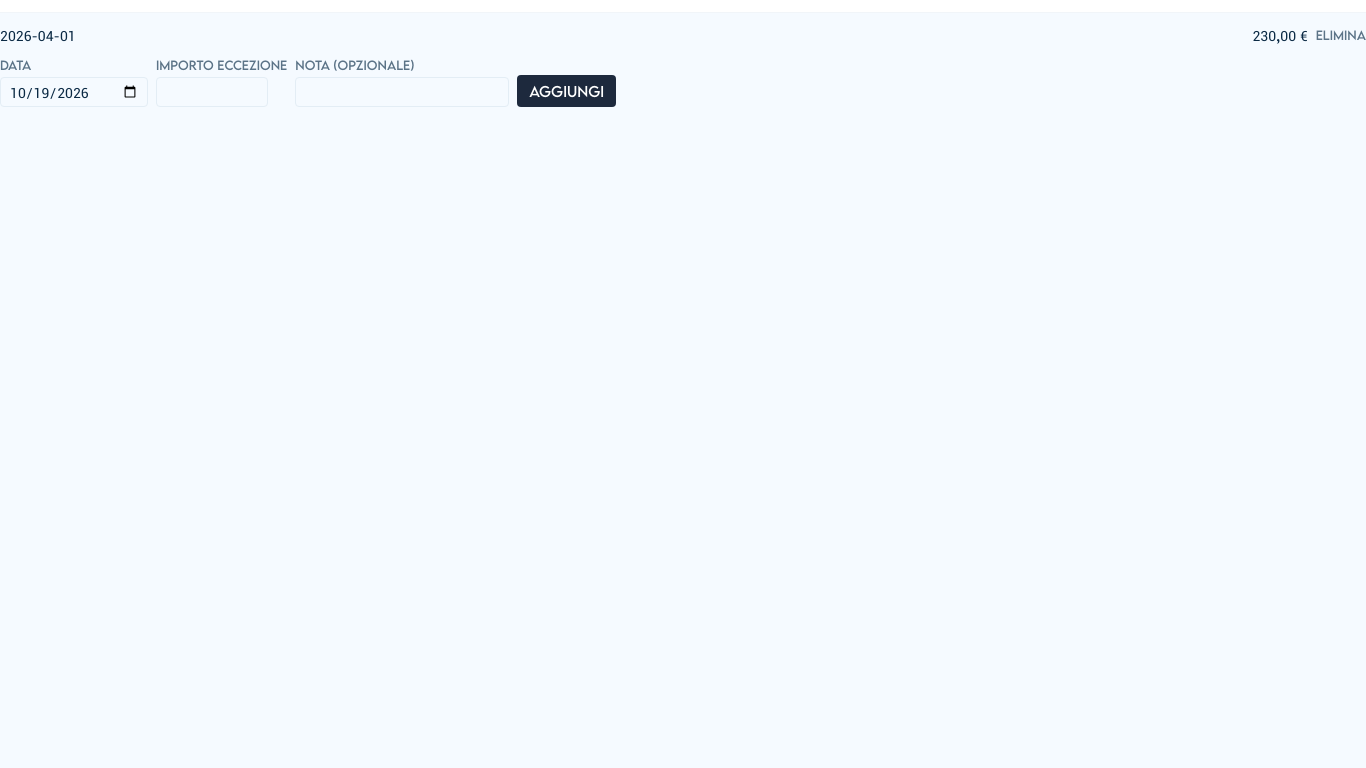
it: cancellazione › chiede conferma prima di eliminare
Click the button "Elimina": (1341, 35) [1316, 27, 1365, 43]
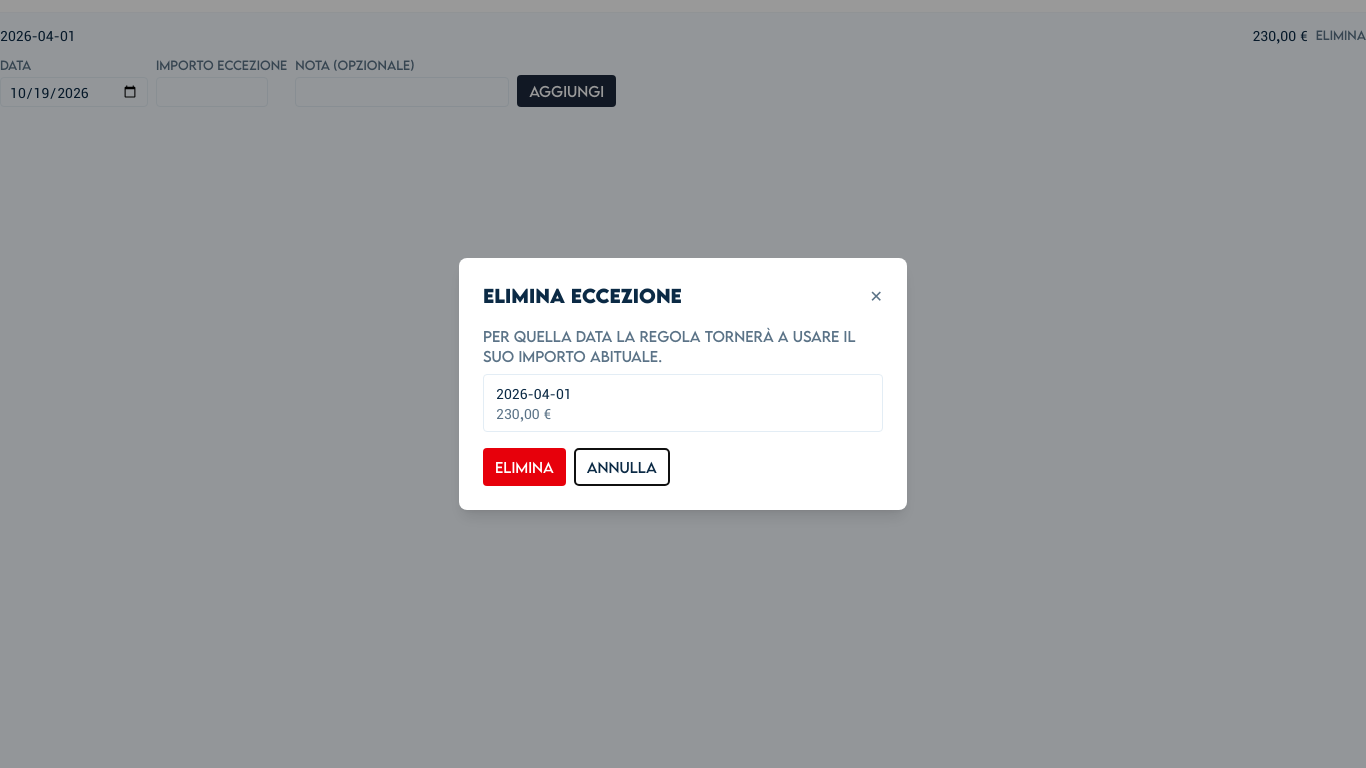
Now the heading "Elimina eccezione" is shown, box [483, 282, 682, 310]
